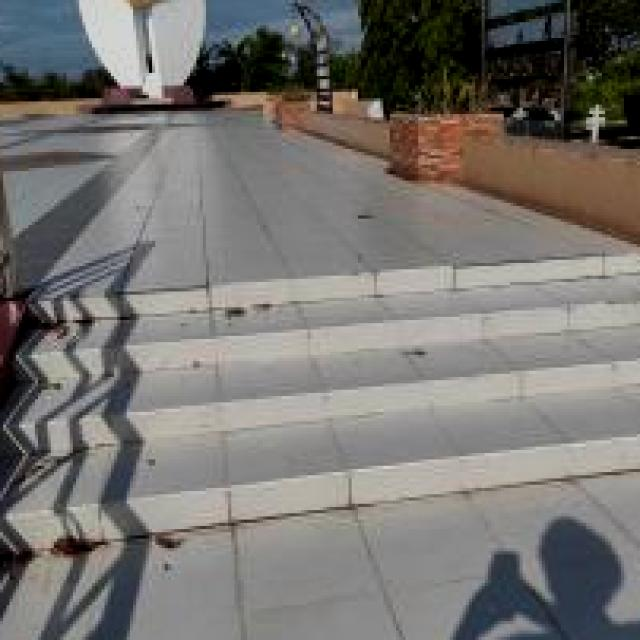upstair: (29, 238, 640, 539)
